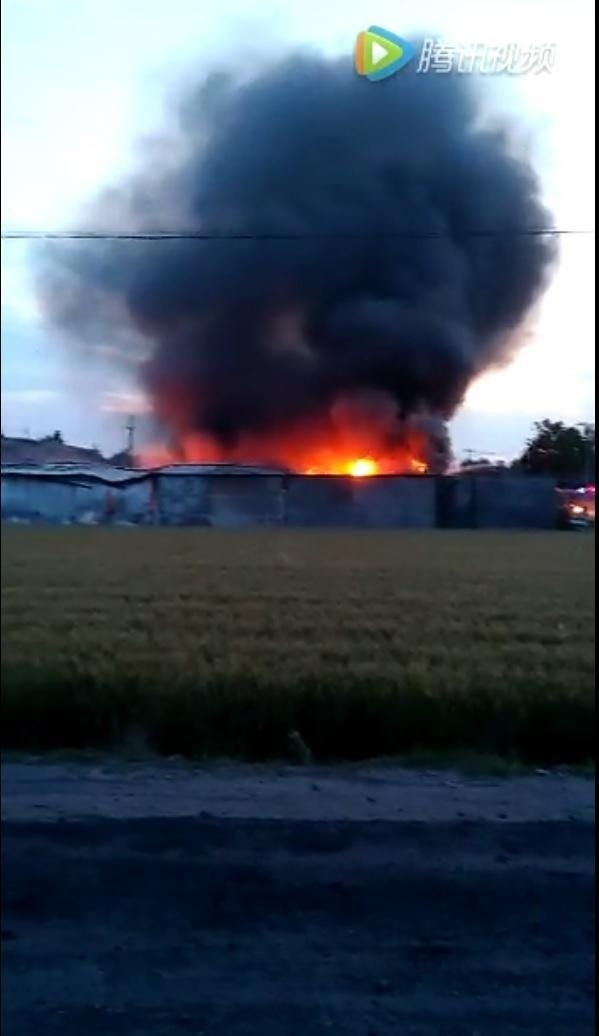fire: (286, 429, 433, 481)
